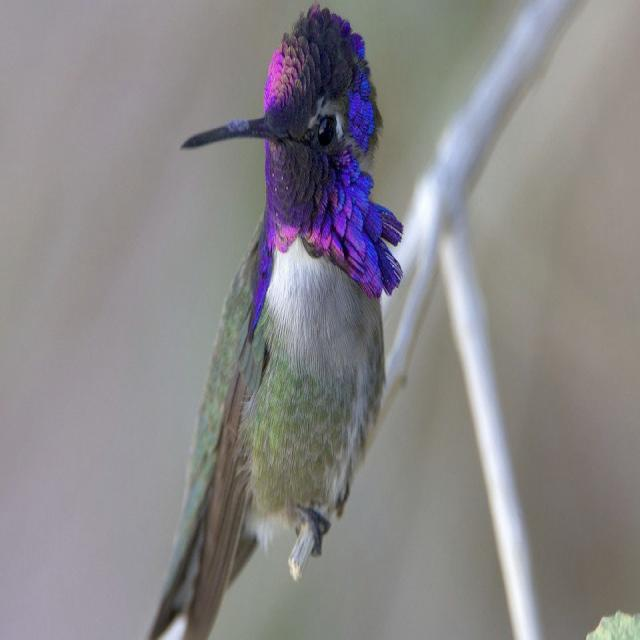hummingbird: (149, 6, 403, 639)
